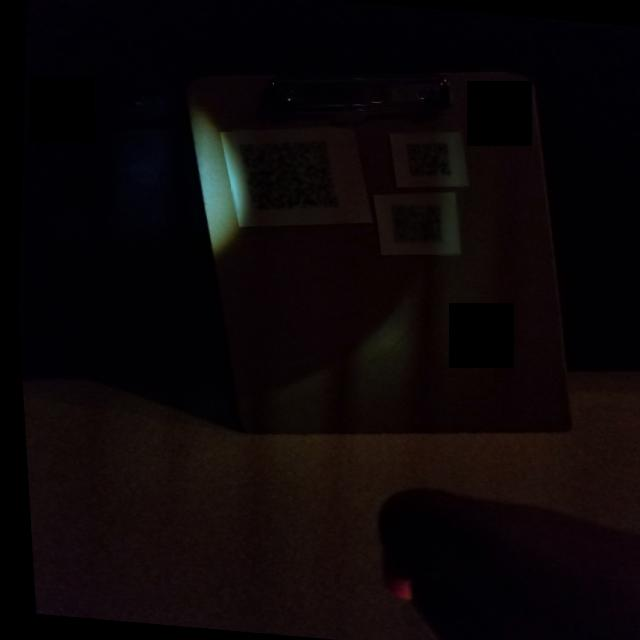QR_CODE: (223, 128, 349, 224), (378, 196, 460, 257), (392, 128, 465, 186)
